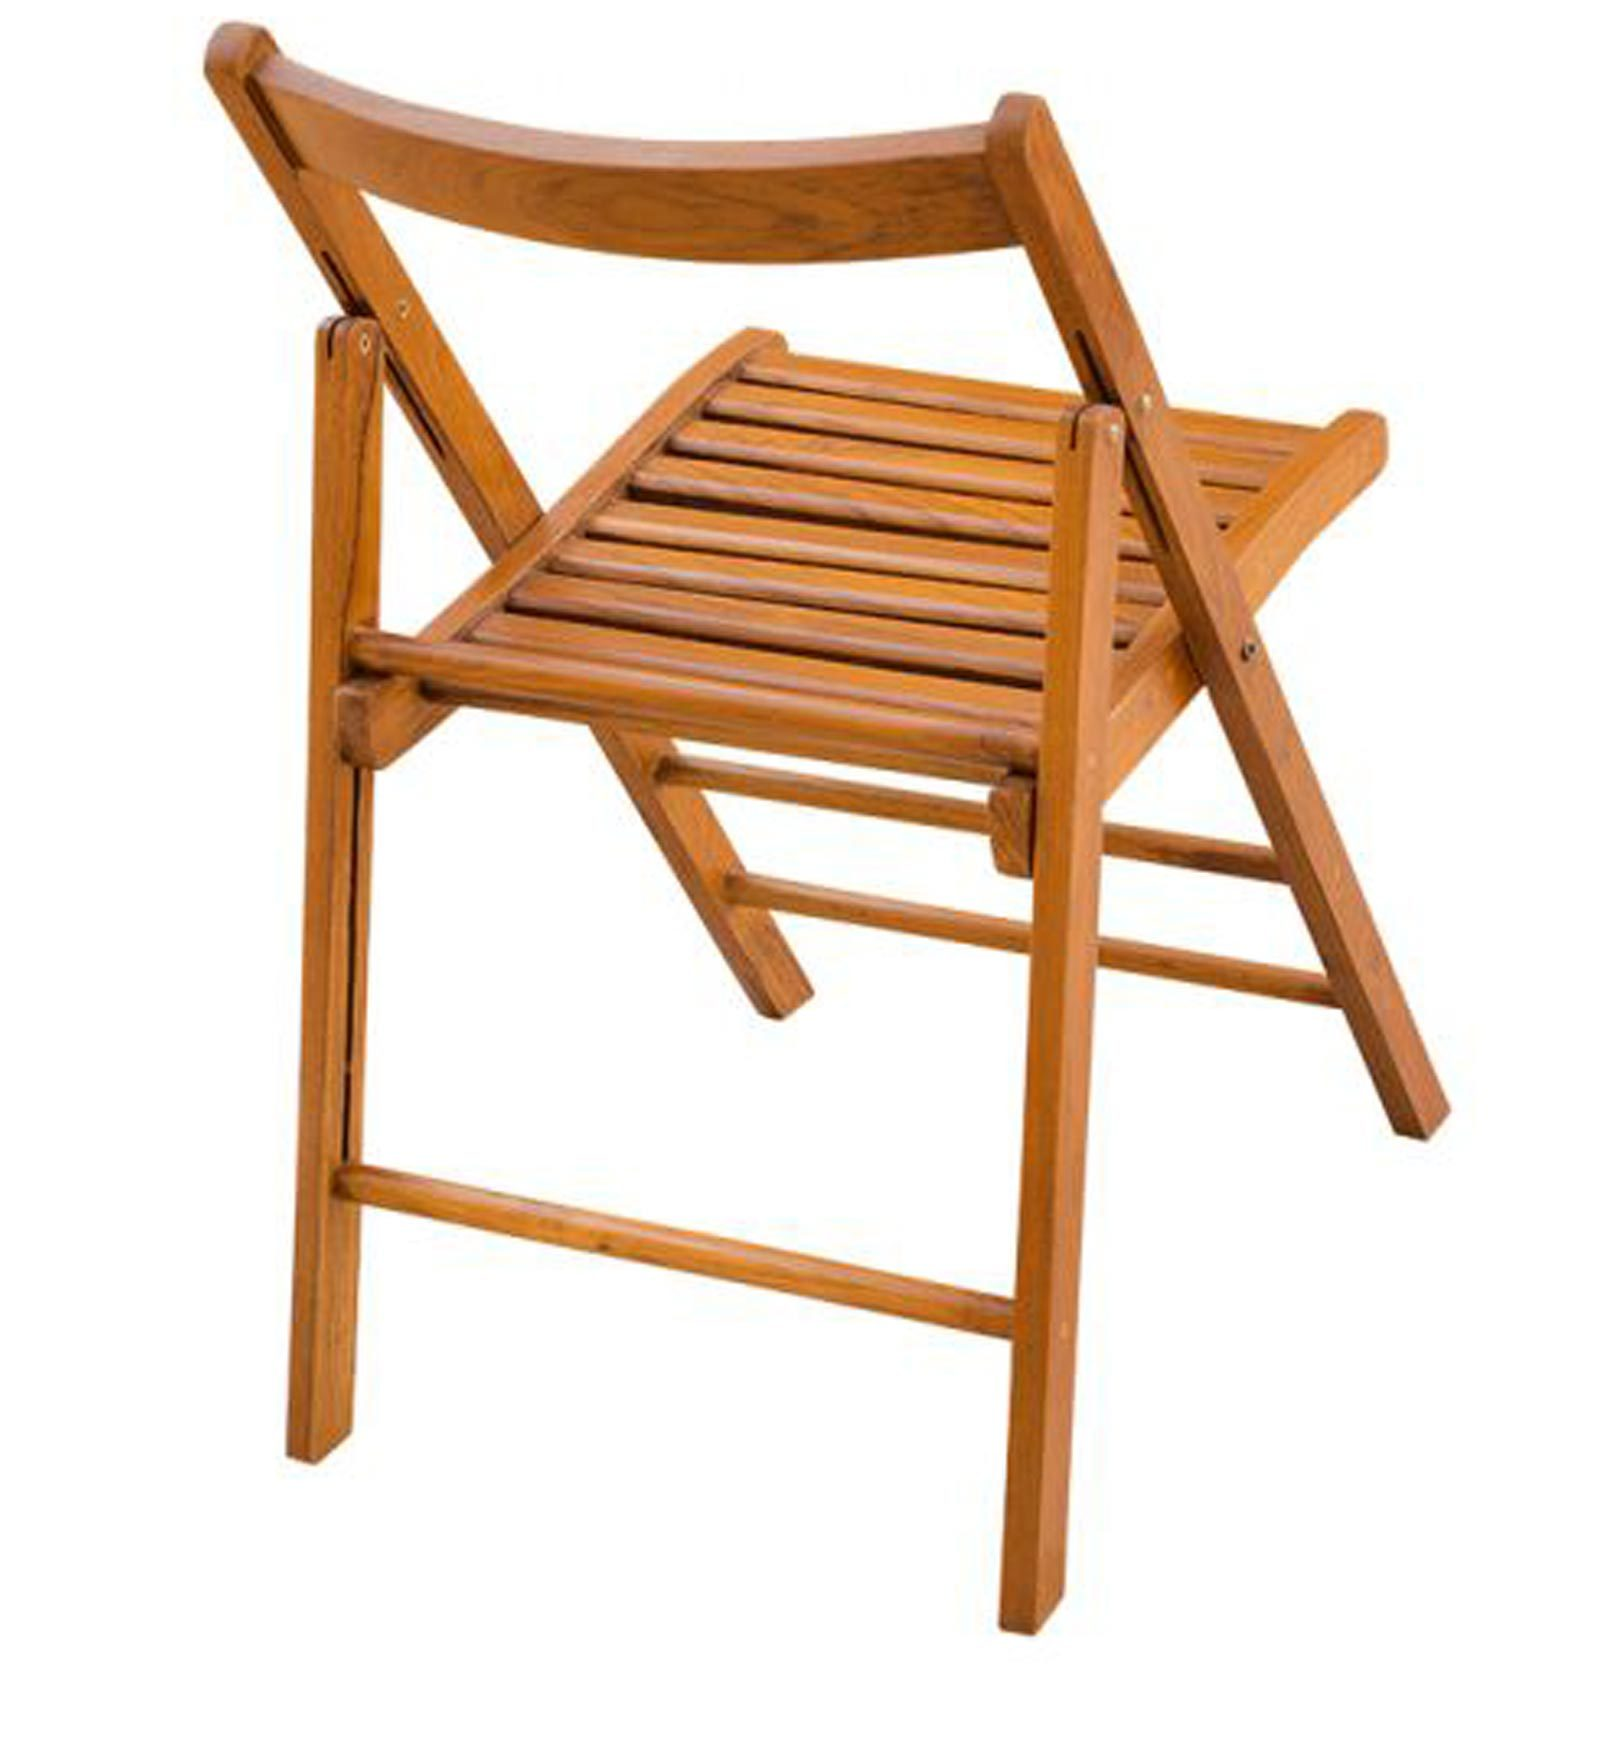Aspen Folding Chair by InLiving: (156, 15, 1511, 1674)
